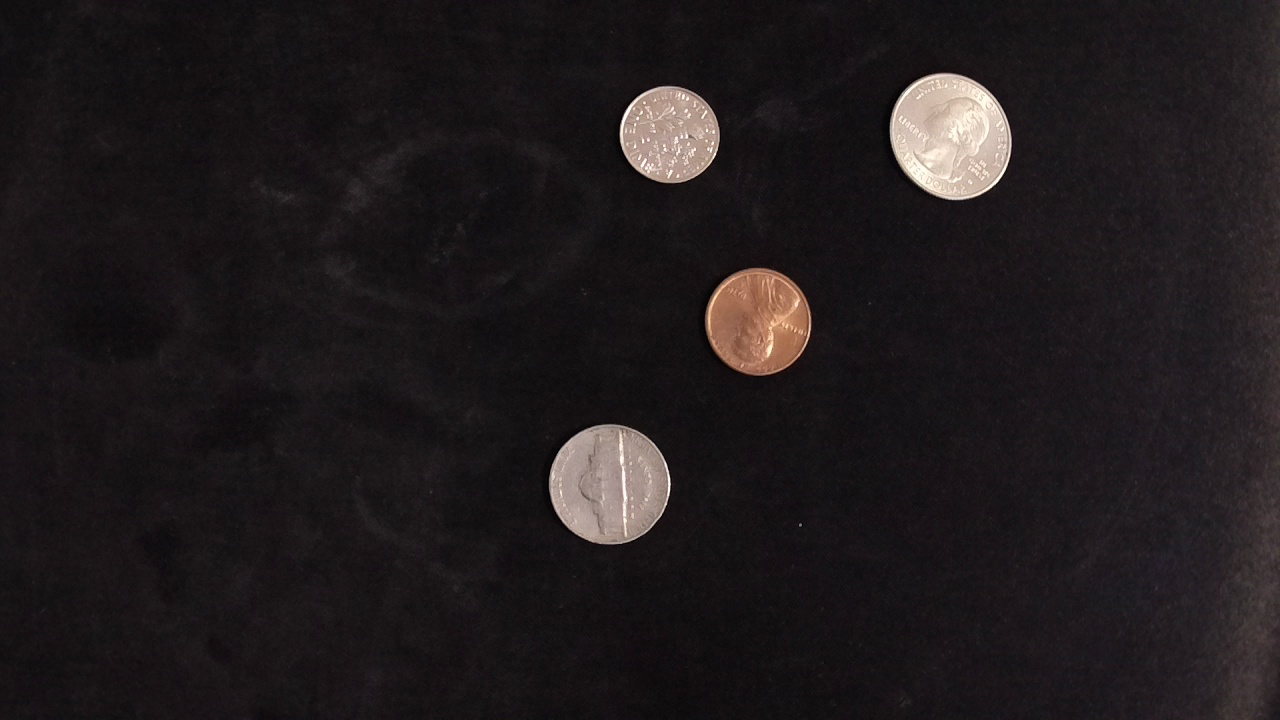dime: (614, 82, 724, 190)
nickel: (543, 418, 673, 552)
penny: (702, 264, 814, 380)
quarter: (887, 70, 1015, 204)
